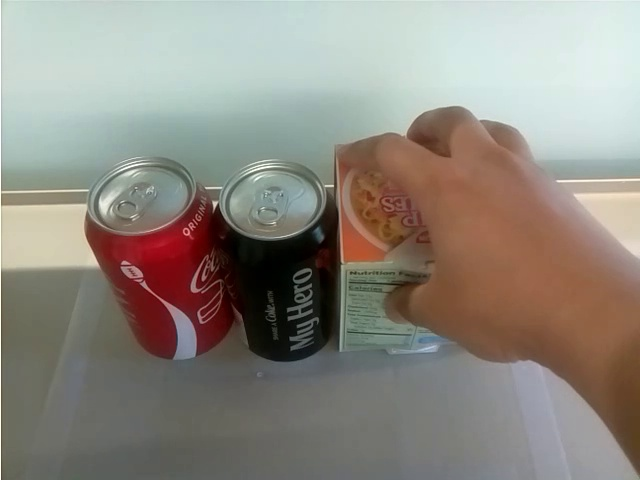cocacola: (77, 161, 231, 364), (218, 157, 332, 381)
hand: (355, 105, 584, 360)
noodles: (342, 152, 421, 372)
